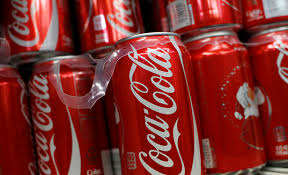can: (187, 12, 271, 175), (103, 30, 198, 173), (28, 53, 108, 175)
